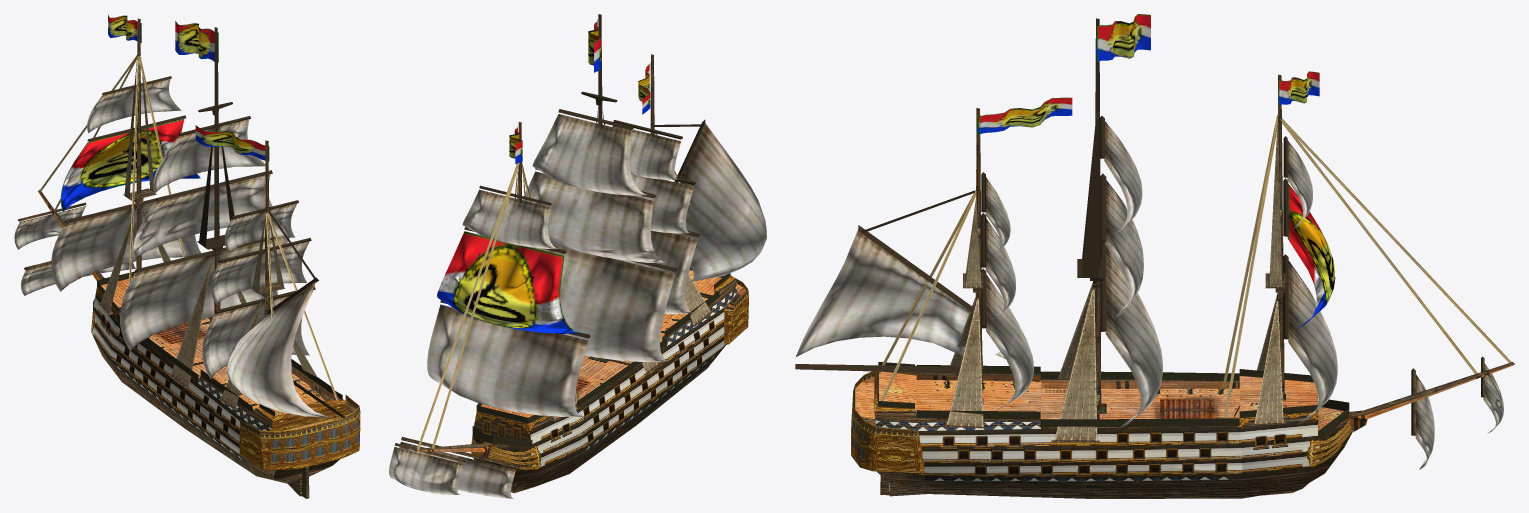
The model's file is Liner3.FBX.
3 renders of one model, left to right at view 1: azimuth 30°, elevation 25°; view 2: azimuth 150°, elevation 25°; view 3: azimuth 270°, elevation 25°, orthographic. The views are drawn at different scales.
Visible parts, largest first — view 1: Mesh_0096, Mesh_0092, Mesh_0093, Mesh_0097, Mesh_0086, Mesh_0090, Mesh_0089, Mesh_0087, Mesh_0085, Mesh_0091, Mesh_0088; view 2: Mesh_0096, Mesh_0092, Mesh_0093, Mesh_0097, Mesh_0086, Mesh_0090, Mesh_0089; view 3: Mesh_0092, Mesh_0096, Mesh_0093, Mesh_0097, Mesh_0091, Mesh_0087, Mesh_0086, Mesh_0090, Mesh_0089.
Boxes of the visible parts, x1,y1,x2,y2 form: Mesh_0096: (14, 79, 330, 417); Mesh_0092: (17, 18, 360, 498); Mesh_0093: (93, 54, 342, 416); Mesh_0097: (108, 14, 269, 161); Mesh_0086: (197, 27, 232, 251); Mesh_0090: (64, 76, 205, 223); Mesh_0089: (215, 200, 315, 313); Mesh_0087: (199, 121, 234, 247); Mesh_0085: (156, 116, 272, 201); Mesh_0091: (267, 210, 345, 417); Mesh_0088: (135, 237, 279, 272); Mesh_0096: (389, 114, 766, 498); Mesh_0092: (394, 54, 748, 493); Mesh_0093: (472, 164, 730, 447); Mesh_0097: (509, 19, 650, 163); Mesh_0086: (581, 14, 617, 124); Mesh_0090: (440, 185, 590, 338); Mesh_0089: (613, 120, 700, 237); Mesh_0092: (851, 74, 1514, 498); Mesh_0096: (796, 121, 1503, 469); Mesh_0093: (878, 114, 1349, 441); Mesh_0097: (977, 14, 1319, 134); Mesh_0091: (795, 190, 974, 373); Mesh_0087: (1082, 127, 1098, 277); Mesh_0086: (1077, 18, 1103, 280); Mesh_0090: (1283, 136, 1288, 339); Mesh_0089: (980, 172, 986, 328).
Bounding box in the file's own units: 1687 × 4192 × 5713.
